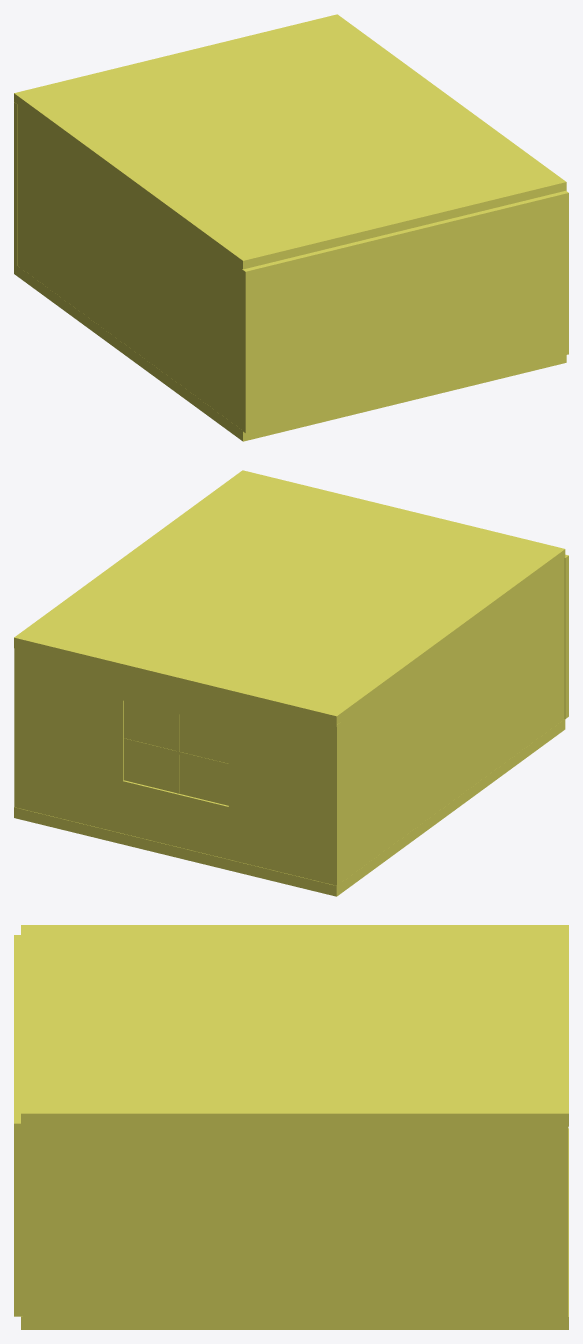
3 renders of one model, top to bottom at view 1: azimuth 30°, elevation 25°; view 2: azimuth 150°, elevation 25°; view 3: azimuth 270°, elevation 25°, orthographic. The views are drawn at different scales.
Visible parts, largest first — view 1: Uv_001_; view 2: Uv_001_; view 3: Uv_001_.
Boxes of the visible parts, box(x1,y1,x2,y2) form: Uv_001_: box(14, 14, 568, 441); Uv_001_: box(14, 470, 568, 896); Uv_001_: box(14, 925, 568, 1329).
Size of the model in its own units: 501 by 267 by 622.
